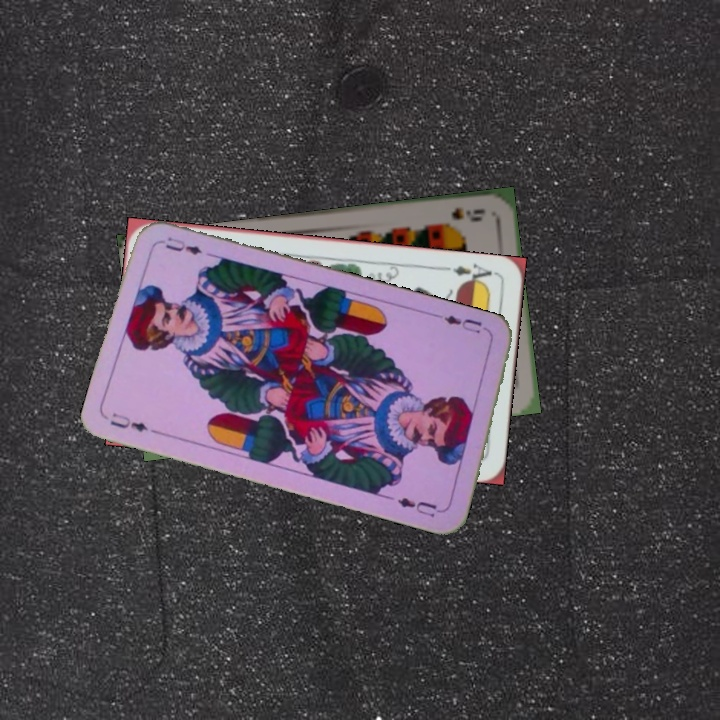EA: (439, 259, 499, 288)
EU: (435, 310, 493, 338), (106, 408, 150, 435)
S9: (447, 203, 487, 224)
